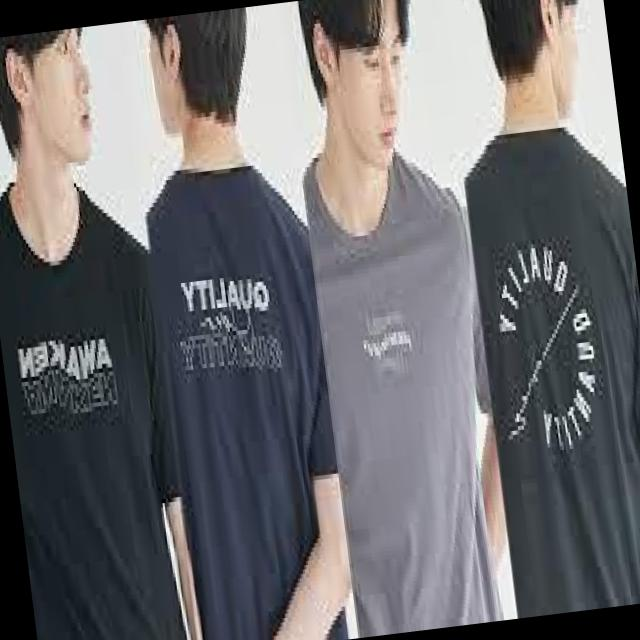Tshirt: (300, 135, 518, 638), (139, 151, 353, 640), (456, 95, 640, 618), (0, 162, 199, 640)
